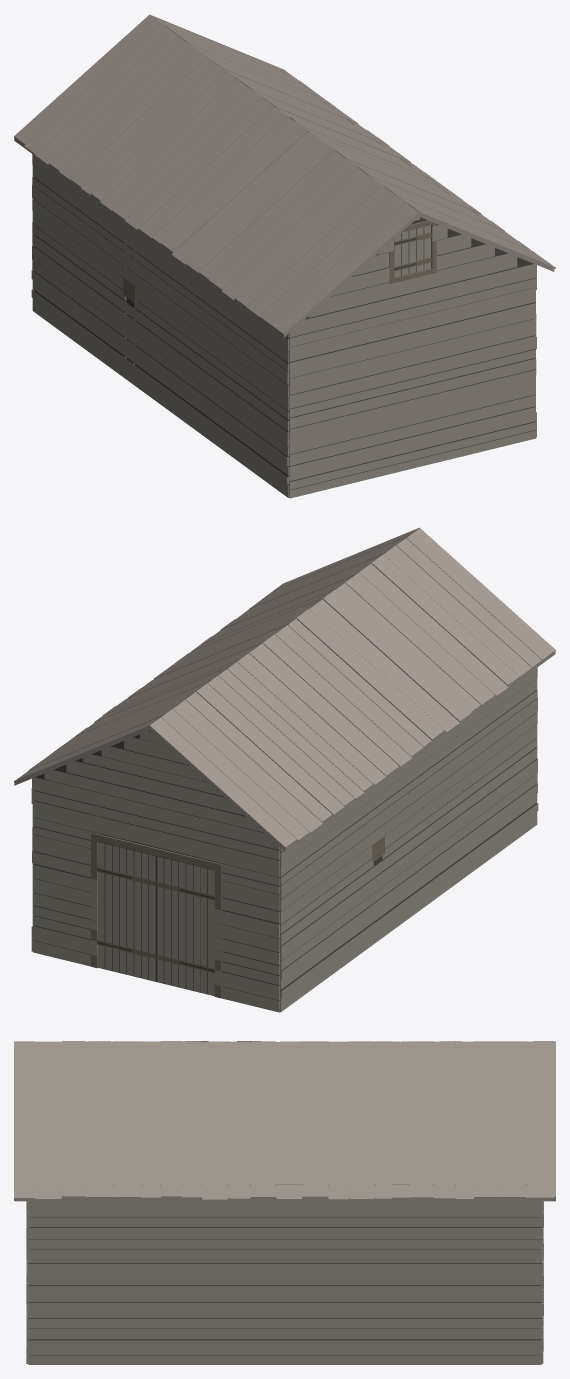
The model's file is inf_sawpit_shed__inferred_1835.glb.
3 renders of one model, top to bottom at view 1: azimuth 30°, elevation 25°; view 2: azimuth 150°, elevation 25°; view 3: azimuth 270°, elevation 25°, orthographic.
Parts seen in each view (by area): view 1: inf_sawpit_shed__inferred_1835; view 2: inf_sawpit_shed__inferred_1835; view 3: inf_sawpit_shed__inferred_1835.
Part boxes in pixels (left/top/right/bottom): inf_sawpit_shed__inferred_1835: left=14, top=14, right=555, bottom=498; inf_sawpit_shed__inferred_1835: left=14, top=527, right=555, bottom=1012; inf_sawpit_shed__inferred_1835: left=14, top=1041, right=555, bottom=1364.
Size of the model in its own units: 6.82 by 6.19 by 11.58.
